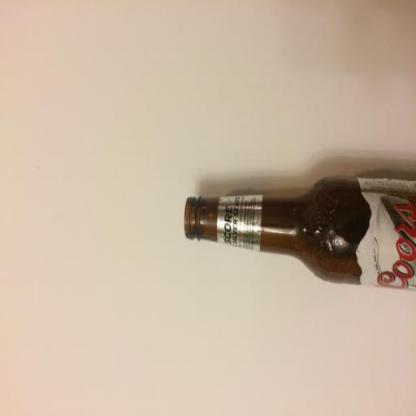trash: (181, 173, 415, 287)
